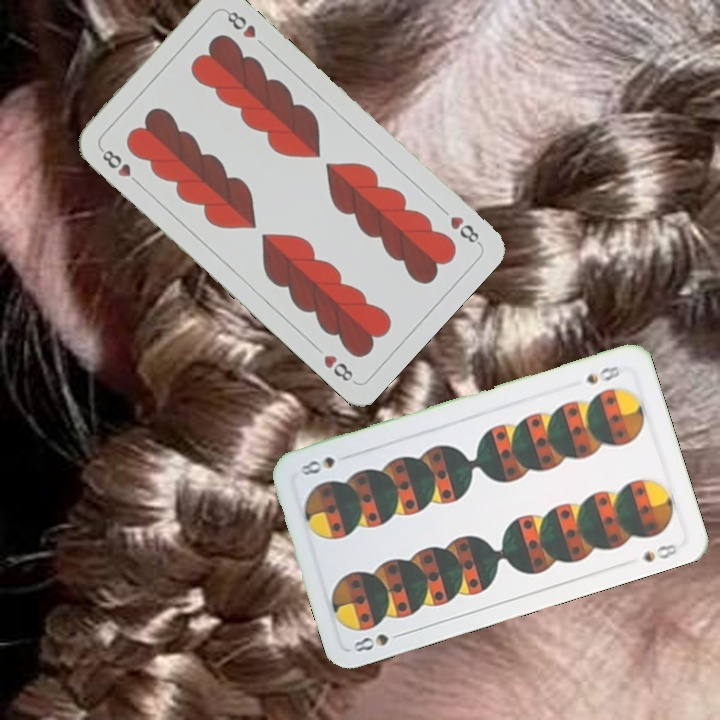H8: (96, 144, 144, 188), (446, 212, 483, 247)
S8: (349, 628, 407, 655), (581, 361, 624, 387)
